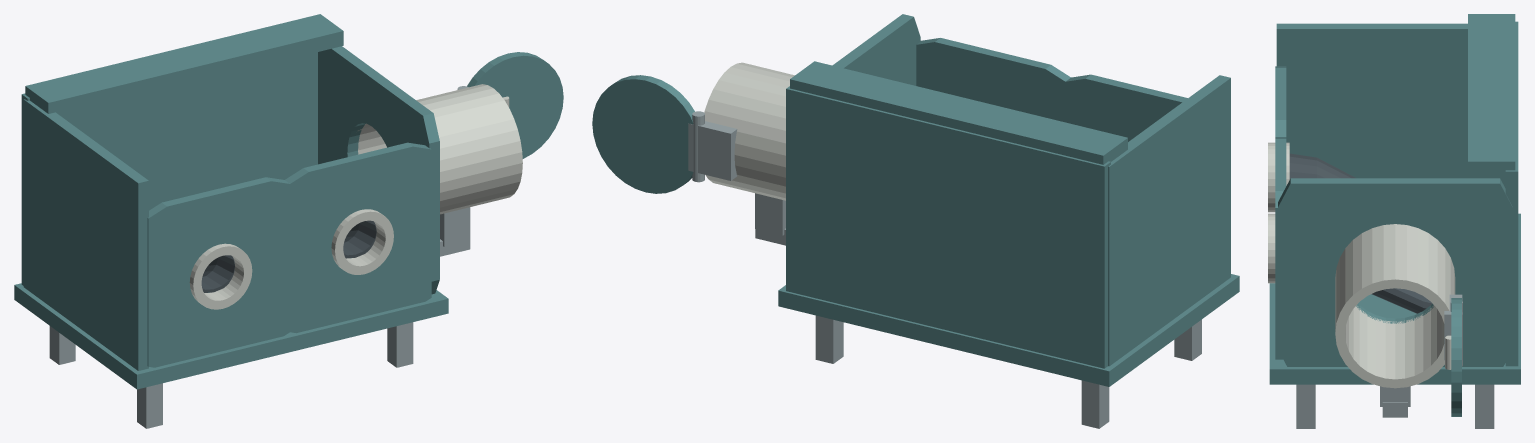
The picture shows the model from 3 angles, left to right: view 1: azimuth 30°, elevation 25°; view 2: azimuth 150°, elevation 25°; view 3: azimuth 270°, elevation 25°; orthographic projection. The views are drawn at different scales.
Parts seen in each view (by area): view 1: WholeLeftWall, WholeRearWall, WholeFrontPortPanel0, WholeFrontPortPanel1, WholeRearRoofCutawayStrip, WholeRightTransferPortWall, WholeOpenTransferCylinder, WholeChamberBase, WholeSwungOpenRoundDoor, WholeThickPortRim1, WholeThickPortRim0, WholeGroundStandLeg10 (+5 smaller); view 2: WholeRearWall, WholeLeftWall, WholeRearRoofCutawayStrip, WholeSwungOpenRoundDoor, WholeChamberBase, WholeOpenTransferCylinder, WholeFrontPortPanel1, WholeFrontPortPanel0, WholeRightTransferPortWall, WholeEndHingeBracket, WholeGroundStandLeg11, WholeGroundStandLeg01 (+2 smaller); view 3: WholeRightTransferPortWall, WholeLeftWall, WholeOpenTransferCylinder, WholeRearRoofCutawayStrip, WholeChamberBase, WholeRearWall, WholeSwungOpenRoundDoor, WholeFrontPortPanel1, WholeInwardMittenSleeve0, WholeGroundStandLeg10, WholeGroundStandLeg11, WholeInwardMittenSleeve1 (+6 smaller).
Boxes of the visible parts, x1=… form: WholeLeftWall: x1=23, y1=99, x2=148, y2=370; WholeRearWall: x1=21, y1=52, x2=317, y2=285; WholeFrontPortPanel0: x1=147, y1=177, x2=289, y2=367; WholeFrontPortPanel1: x1=285, y1=142, x2=431, y2=333; WholeRearRoofCutawayStrip: x1=25, y1=14, x2=343, y2=114; WholeRightTransferPortWall: x1=318, y1=46, x2=439, y2=294; WholeOpenTransferCylinder: x1=358, y1=84, x2=522, y2=214; WholeChamberBase: x1=14, y1=258, x2=448, y2=389; WholeSwungOpenRoundDoor: x1=467, y1=52, x2=563, y2=158; WholeThickPortRim1: x1=331, y1=209, x2=393, y2=274; WholeThickPortRim0: x1=189, y1=243, x2=252, y2=309; WholeGroundStandLeg10: x1=387, y1=322, x2=413, y2=367; WholeRearWall: x1=786, y1=86, x2=1110, y2=368; WholeLeftWall: x1=1108, y1=75, x2=1230, y2=366; WholeRearRoofCutawayStrip: x1=790, y1=61, x2=1127, y2=164; WholeSwungOpenRoundDoor: x1=592, y1=75, x2=694, y2=193; WholeChamberBase: x1=778, y1=274, x2=1239, y2=386; WholeOpenTransferCylinder: x1=704, y1=62, x2=794, y2=200; WholeFrontPortPanel1: x1=916, y1=38, x2=1070, y2=122; WholeFrontPortPanel0: x1=1065, y1=74, x2=1187, y2=141; WholeRightTransferPortWall: x1=832, y1=14, x2=920, y2=85; WholeEndHingeBracket: x1=688, y1=121, x2=737, y2=180; WholeGroundStandLeg11: x1=815, y1=315, x2=843, y2=363; WholeGroundStandLeg01: x1=1081, y1=380, x2=1109, y2=428; WholeRightTransferPortWall: x1=1278, y1=178, x2=1512, y2=366; WholeLeftWall: x1=1276, y1=23, x2=1505, y2=188; WholeOpenTransferCylinder: x1=1335, y1=224, x2=1455, y2=388; WholeRearRoofCutawayStrip: x1=1468, y1=14, x2=1515, y2=176; WholeChamberBase: x1=1269, y1=213, x2=1520, y2=384; WholeRearWall: x1=1505, y1=21, x2=1518, y2=366; WholeSwungOpenRoundDoor: x1=1451, y1=298, x2=1461, y2=416; WholeFrontPortPanel1: x1=1275, y1=137, x2=1286, y2=359; WholeInwardMittenSleeve0: x1=1289, y1=153, x2=1355, y2=179; WholeGroundStandLeg10: x1=1296, y1=384, x2=1315, y2=428; WholeGroundStandLeg11: x1=1475, y1=384, x2=1494, y2=428; WholeInwardMittenSleeve1: x1=1371, y1=288, x2=1432, y2=313.
Bounding box in the file's own units: 2.18 × 1.09 × 0.906.
